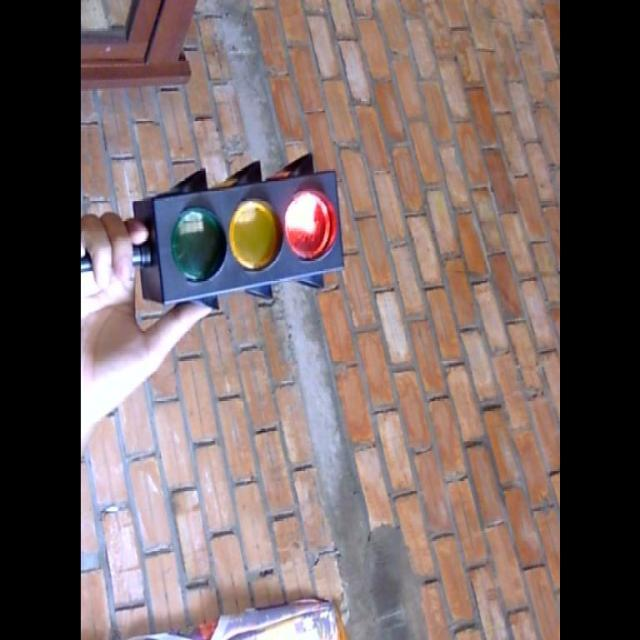red light: (278, 178, 343, 272)
